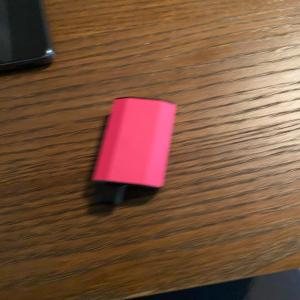Blume-E-Ciggirate: (89, 95, 188, 211)
